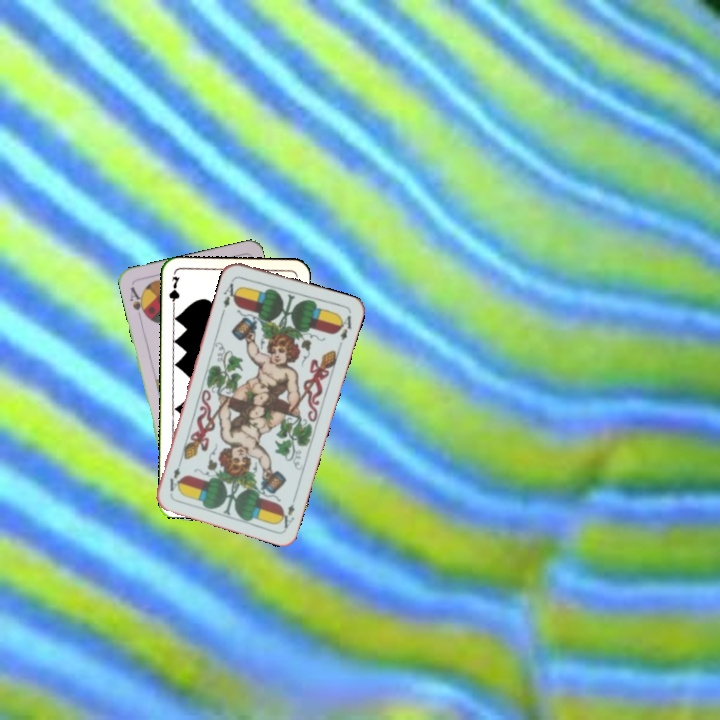EA: (276, 491, 299, 531), (219, 275, 241, 310)
G7: (165, 272, 182, 312)
SA: (125, 283, 149, 320)
